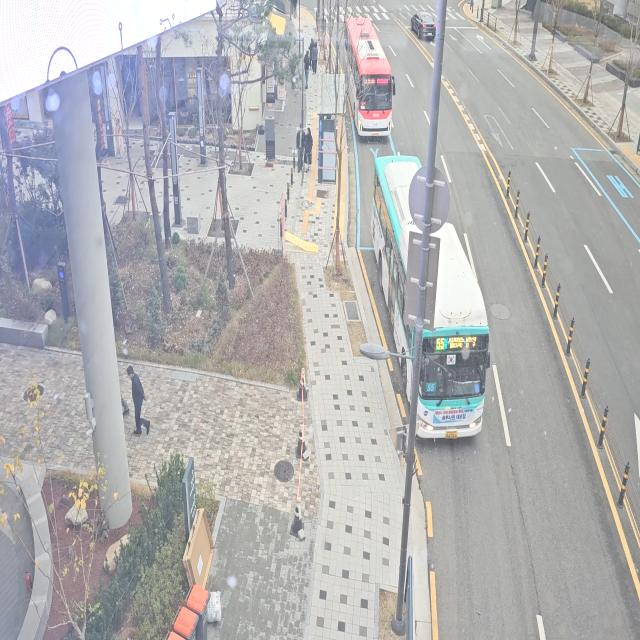Bus: (366, 152, 501, 469), (335, 6, 399, 145)
Car: (410, 3, 442, 47)
